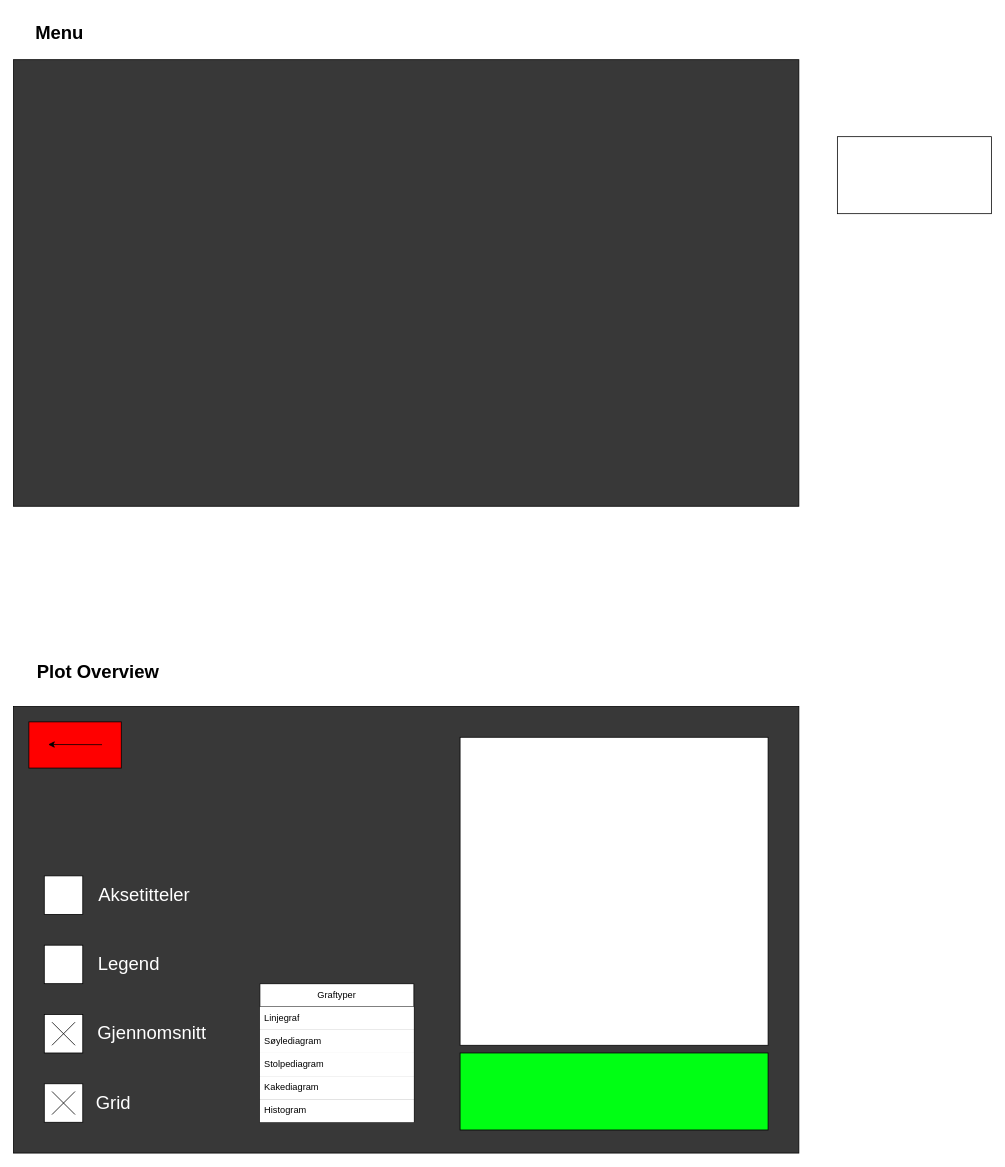
Image size: 1005x1167. Some labels were removed from this diagram. The centre of each missing label's shape, as x and y in pixels:
"PLOTT" belongs at point 613,891.
"Vis plott" belongs at point 613,1091.
